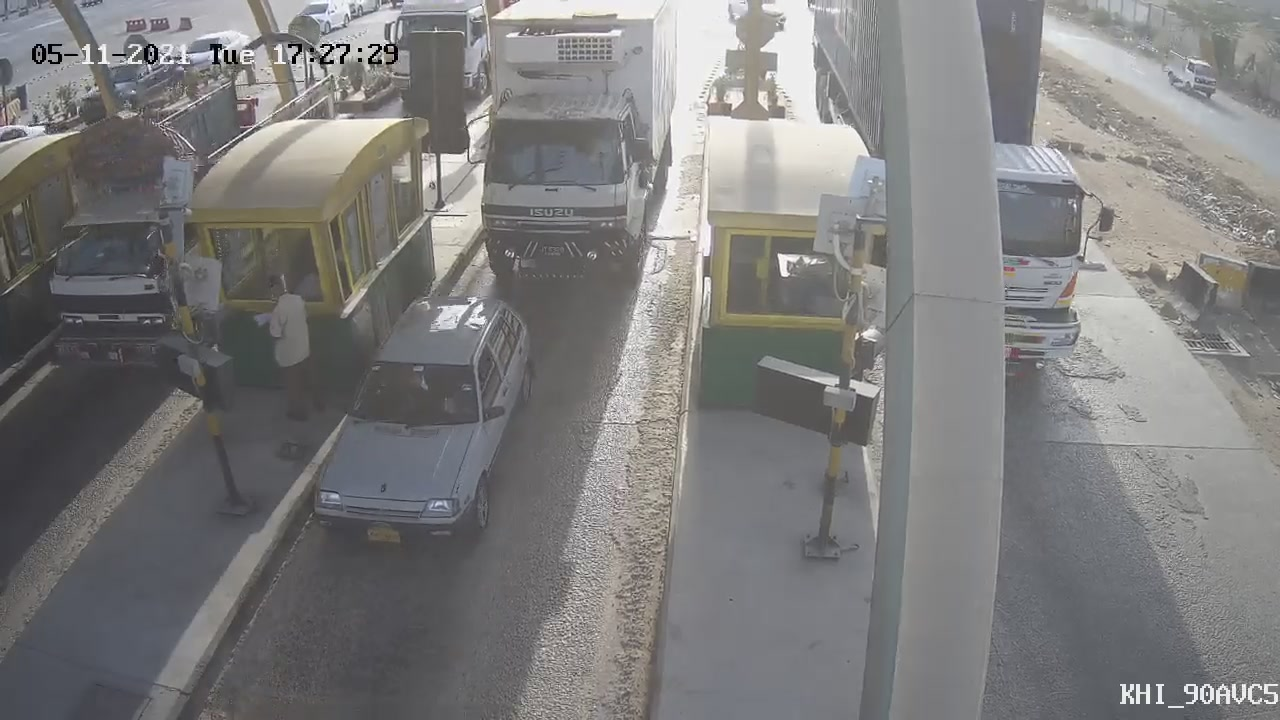F1: (292, 272, 552, 566)
F5: (474, 1, 680, 303)
